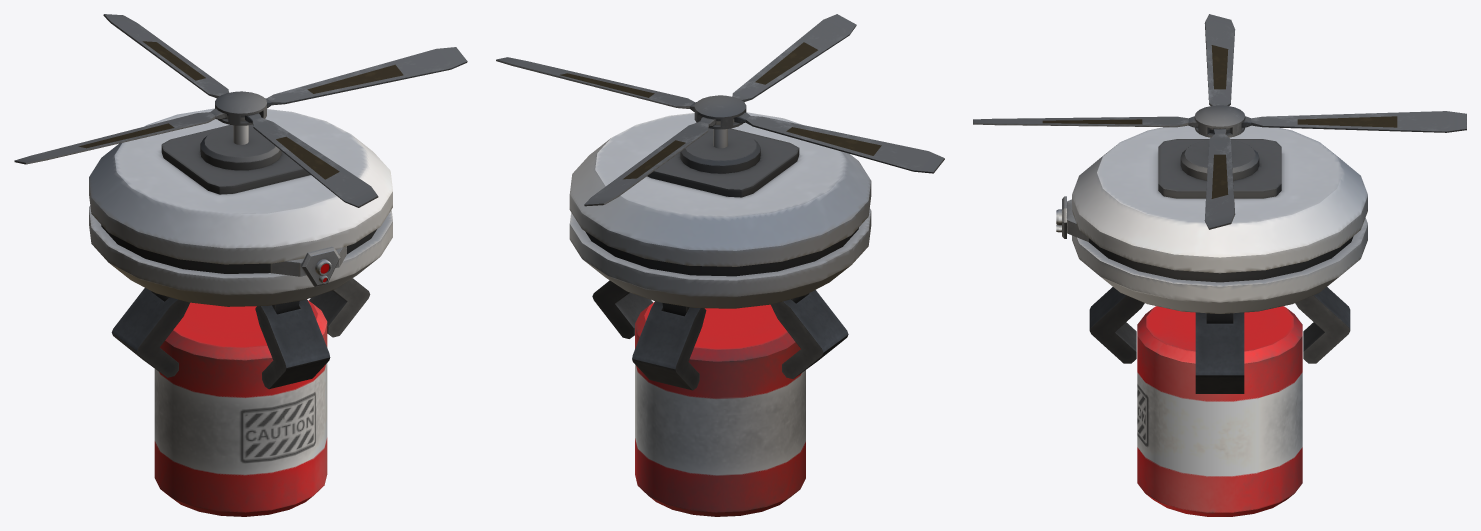
Rendered from BombDronemotion1.fbx.
3 renders of one model, left to right at view 1: azimuth 30°, elevation 25°; view 2: azimuth 150°, elevation 25°; view 3: azimuth 270°, elevation 25°, orthographic. The views are drawn at different scales.
Visible parts, largest first — view 1: Enemy2_A, Bomb, Enemy2_C, Enemy2_D, Enemy2_B; view 2: Enemy2_A, Bomb, Enemy2_C, Enemy2_D; view 3: Enemy2_A, Bomb, Enemy2_C, Enemy2_D, Enemy2_B.
Part boxes in pixels (x1=…): Enemy2_A: x1=89, y1=108, x2=392, y2=306; Bomb: x1=154, y1=299, x2=327, y2=516; Enemy2_C: x1=14, y1=14, x2=467, y2=207; Enemy2_D: x1=111, y1=278, x2=370, y2=389; Enemy2_B: x1=270, y1=246, x2=346, y2=286; Enemy2_A: x1=569, y1=112, x2=871, y2=308; Bomb: x1=635, y1=302, x2=805, y2=516; Enemy2_C: x1=496, y1=14, x2=944, y2=206; Enemy2_D: x1=592, y1=280, x2=848, y2=390; Enemy2_A: x1=1072, y1=125, x2=1367, y2=313; Bomb: x1=1137, y1=306, x2=1302, y2=516; Enemy2_C: x1=973, y1=14, x2=1466, y2=229; Enemy2_D: x1=1089, y1=287, x2=1350, y2=393; Enemy2_B: x1=1056, y1=196, x2=1088, y2=241.
Size of the model in its own units: 10 by 8.36 by 10.
Materials: 1 (1 with a texture image).
